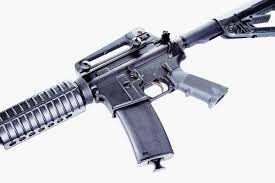gun: (0, 0, 274, 174)
